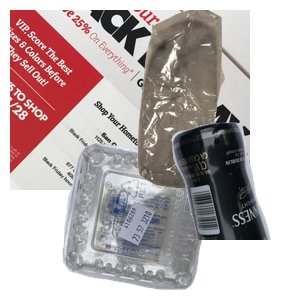glass: (106, 120, 300, 300)
paper: (10, 10, 250, 190)
plastic: (60, 141, 263, 300)
trash: (114, 10, 300, 190)
